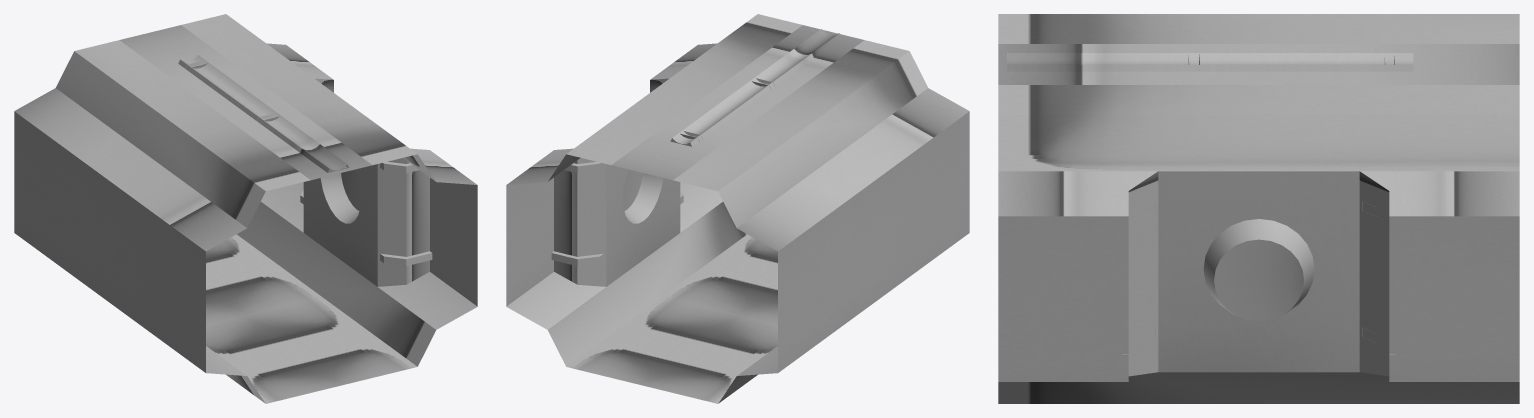
Rendered from corridorF.FBX.
3 views of the same model, side by side, from view 1: azimuth 30°, elevation 25°; view 2: azimuth 150°, elevation 25°; view 3: azimuth 270°, elevation 25° (orthographic). The views are drawn at different scales.
Visible parts, largest first — view 1: corridorF; view 2: corridorF; view 3: corridorF.
Part boxes in pixels (<box>): corridorF: <box>14,14,477,403</box>; corridorF: <box>506,14,969,403</box>; corridorF: <box>998,14,1519,403</box>.
Bounding box in the file's own units: 14.41 × 17.57 × 10.96.
